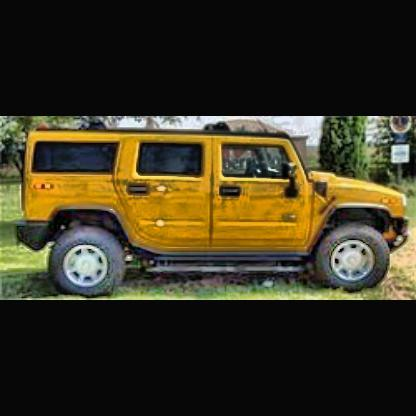AM General Hummer SUV 2000: (18, 126, 416, 299)
